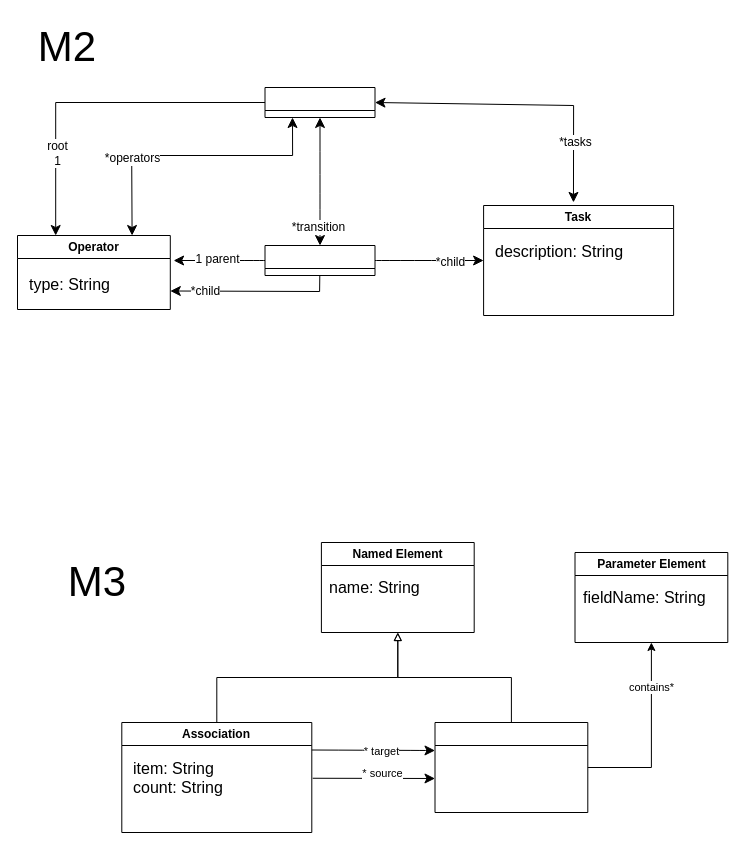
The diagram is 746 pixels wide and 850 high, and some of its shapes have lost their labels. Each missing label, with the centre of its shape:
"Class" goes at pixel 511 767.
"Process Tree" goes at pixel 319 102.
"Transition" goes at pixel 319 260.
